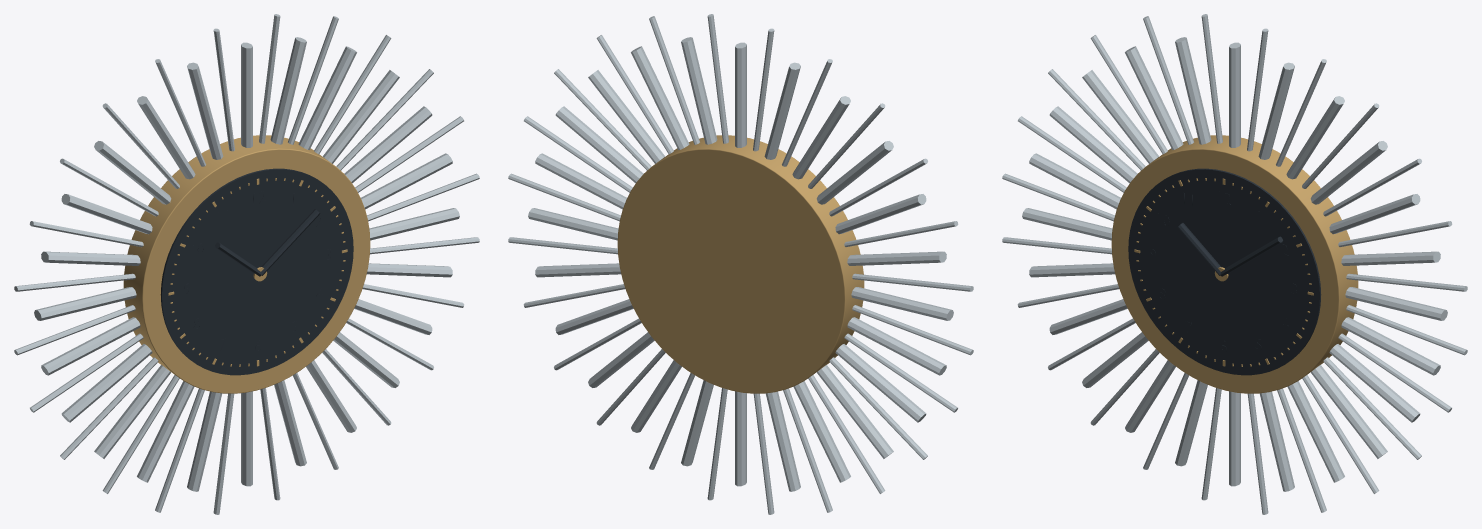
File: clock-sunburst-metal.glb
3 renders of one model, left to right at view 1: azimuth 30°, elevation 25°; view 2: azimuth 150°, elevation 25°; view 3: azimuth 330°, elevation 25°, orthographic.
Visible parts, largest first — view 1: catalog_surface_RealismUV; view 2: catalog_surface_RealismUV; view 3: catalog_surface_RealismUV.
Part boxes in pixels (<box>): catalog_surface_RealismUV: <box>14,14,479,514</box>; catalog_surface_RealismUV: <box>508,14,973,514</box>; catalog_surface_RealismUV: <box>1002,14,1467,514</box>.
Size of the model in its own units: 0.6 by 0.6 by 0.055.
